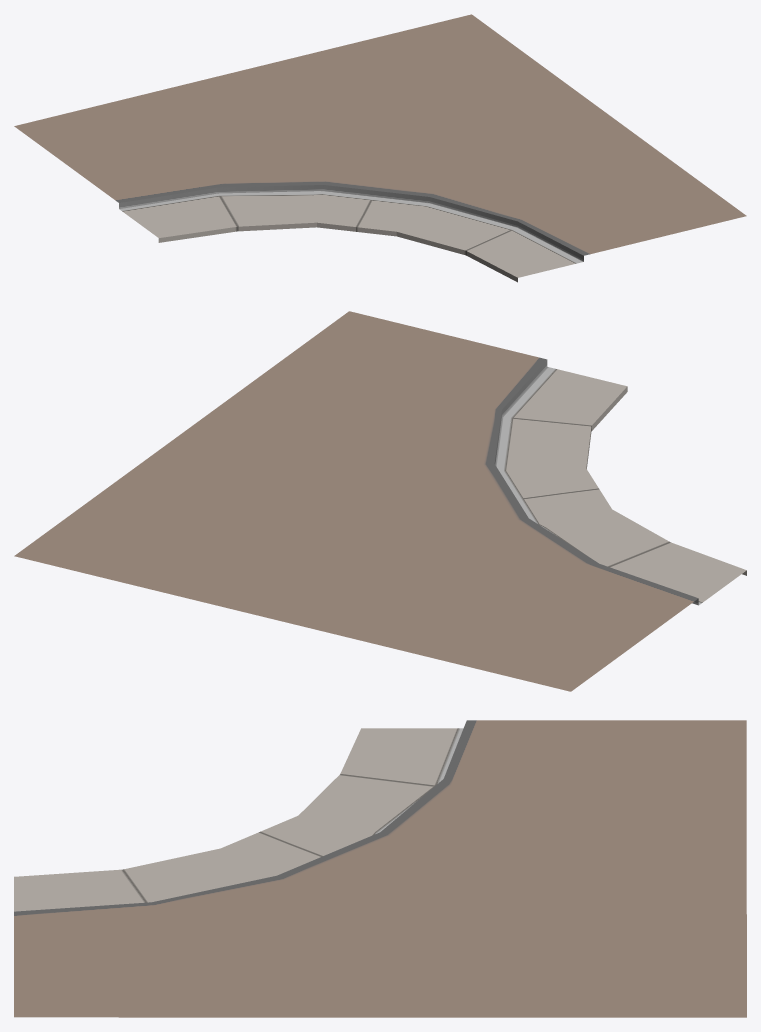
Rendered from island_curve_mesh.fbx.
3 renders of one model, top to bottom at view 1: azimuth 30°, elevation 25°; view 2: azimuth 150°, elevation 25°; view 3: azimuth 270°, elevation 25°, orthographic. The views are drawn at different scales.
Visible parts, largest first — view 1: polySurface5; view 2: polySurface5; view 3: polySurface5.
Boxes of the visible parts, <box> form: polySurface5: <box>14,14,746,282</box>; polySurface5: <box>14,311,746,691</box>; polySurface5: <box>14,720,746,1017</box>.
Size of the model in its own units: 20 by 0.4475 by 20.84.
